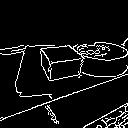cube: (36, 43, 86, 83)
